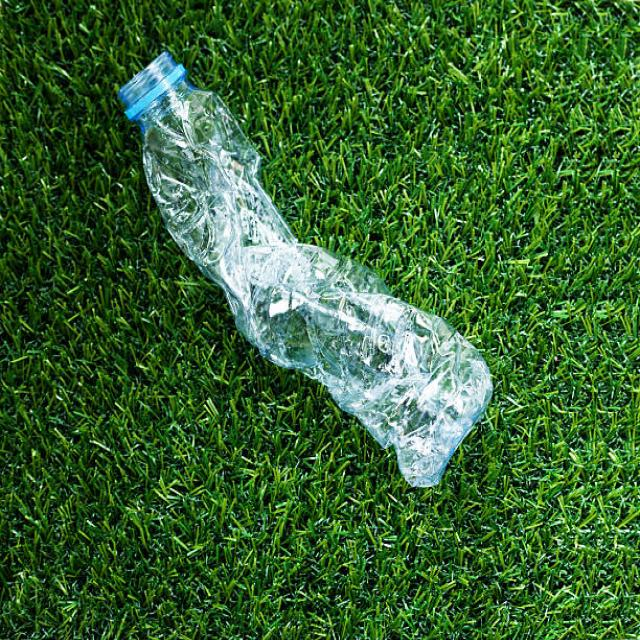plastic: (121, 53, 491, 484)
